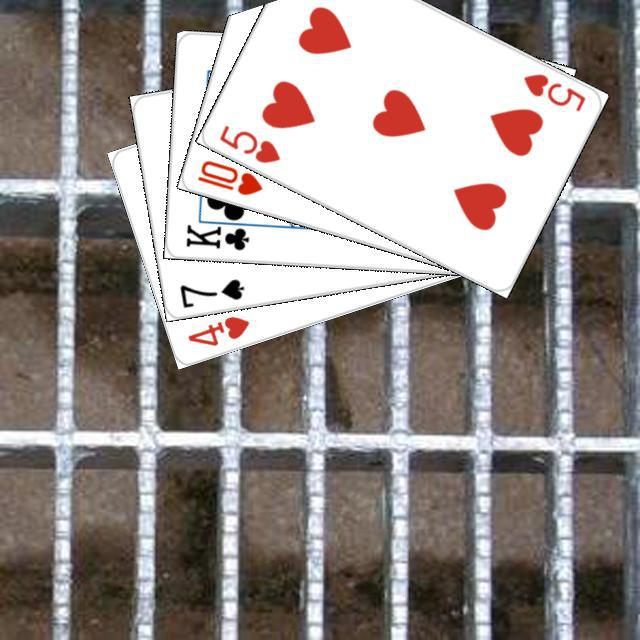10h: (192, 155, 265, 197)
4h: (182, 311, 251, 348)
5h: (518, 68, 588, 114), (214, 120, 283, 165)
7s: (175, 274, 246, 310)
Kc: (180, 213, 259, 252)
